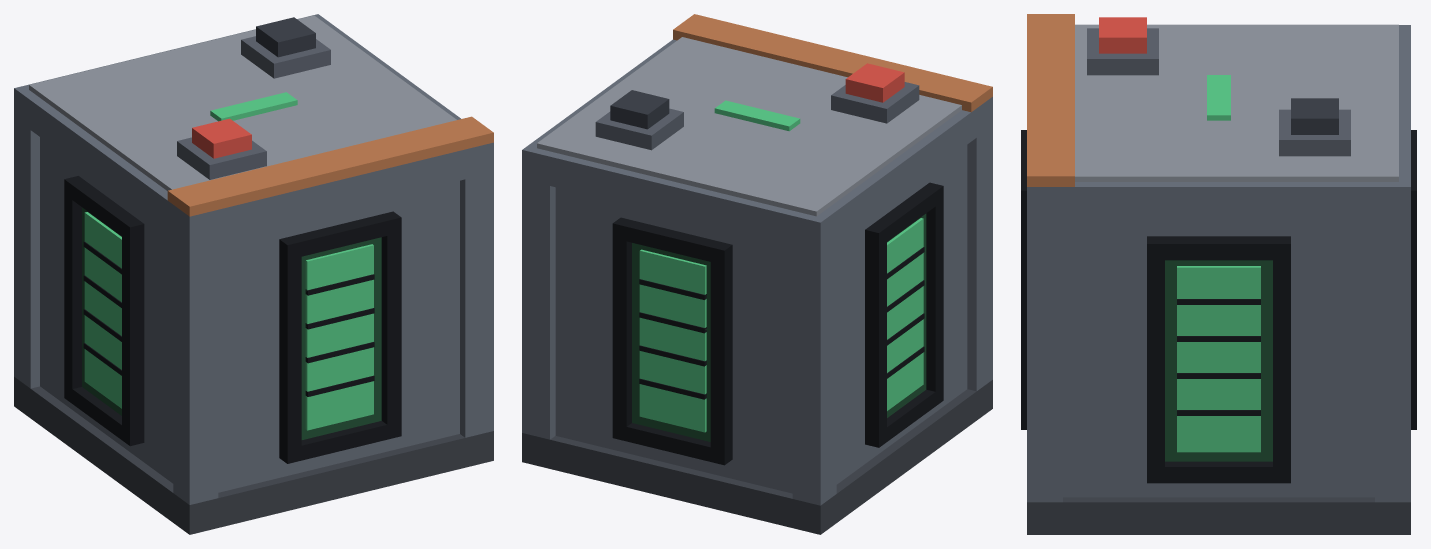
The model's file is battery.glb.
3 views of the same model, side by side, from view 1: azimuth 30°, elevation 25°; view 2: azimuth 150°, elevation 25°; view 3: azimuth 270°, elevation 25° (orthographic). The views are drawn at different scales.
Visible parts, largest first — view 1: body.030, level_charge, tier.015; view 2: body.030, level_charge, tier.015; view 3: body.030, level_charge, tier.015.
Part boxes in pixels (left/top/right/bottom): body.030: left=14, top=14, right=493, bottom=534; level_charge: left=84, top=212, right=373, bottom=430; tier.015: left=167, top=116, right=493, bottom=216; body.030: left=522, top=37, right=992, bottom=534; level_charge: left=639, top=218, right=923, bottom=432; tier.015: left=673, top=14, right=992, bottom=112; body.030: left=1021, top=17, right=1416, bottom=534; level_charge: left=1177, top=266, right=1260, bottom=452; tier.015: left=1027, top=14, right=1074, bottom=186.
Size of the model in its own units: 1.03 by 1.11 by 1.03.
